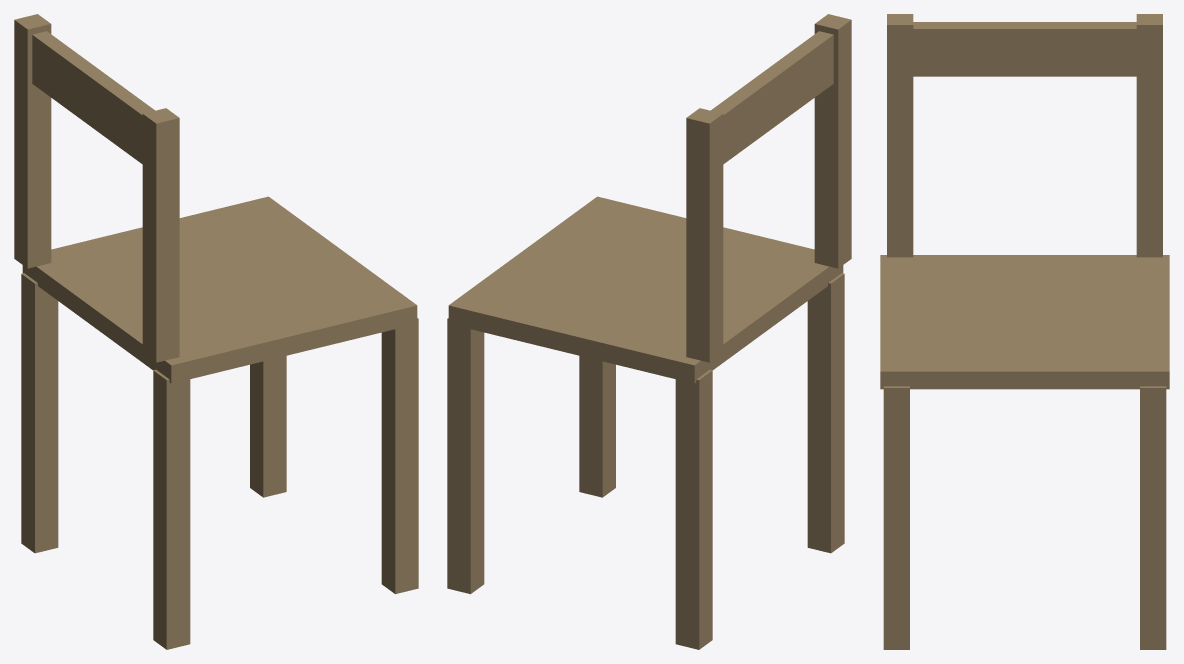
The model's file is SM_Prop_cafe_chair_1_LOD2.glb.
3 views of the same model, side by side, from view 1: azimuth 30°, elevation 25°; view 2: azimuth 150°, elevation 25°; view 3: azimuth 270°, elevation 25° (orthographic). The views are drawn at different scales.
Parts seen in each view (by area): view 1: SM_Prop_cafe_chair_1_LOD2; view 2: SM_Prop_cafe_chair_1_LOD2; view 3: SM_Prop_cafe_chair_1_LOD2.
Boxes of the visible parts, x1,y1,x2,y2 form: SM_Prop_cafe_chair_1_LOD2: [14, 14, 418, 649]; SM_Prop_cafe_chair_1_LOD2: [447, 14, 851, 649]; SM_Prop_cafe_chair_1_LOD2: [880, 14, 1169, 649].
Bounding box in the file's own units: 0.445 × 0.86 × 0.44.
